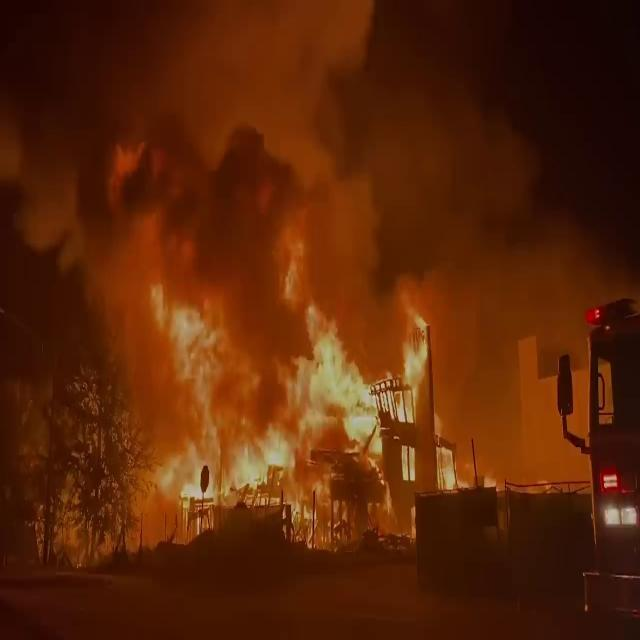Fire: (192, 362, 417, 556)
Smoke: (293, 2, 640, 224), (6, 7, 168, 330)
